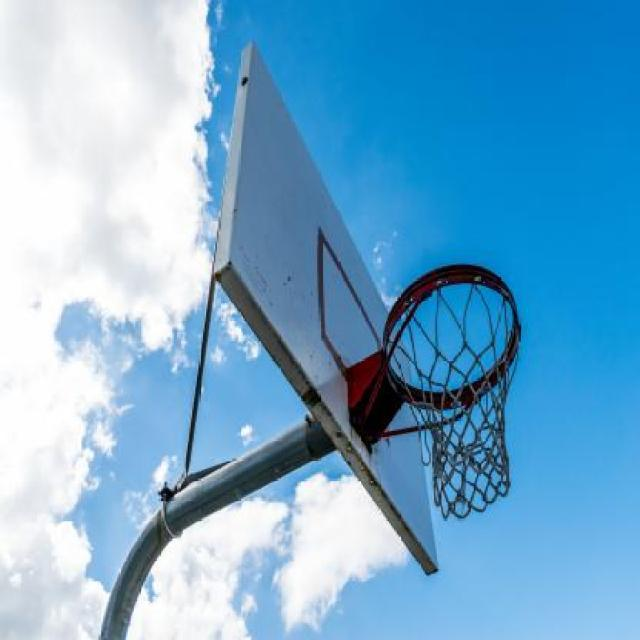rim: (383, 262, 523, 520)
